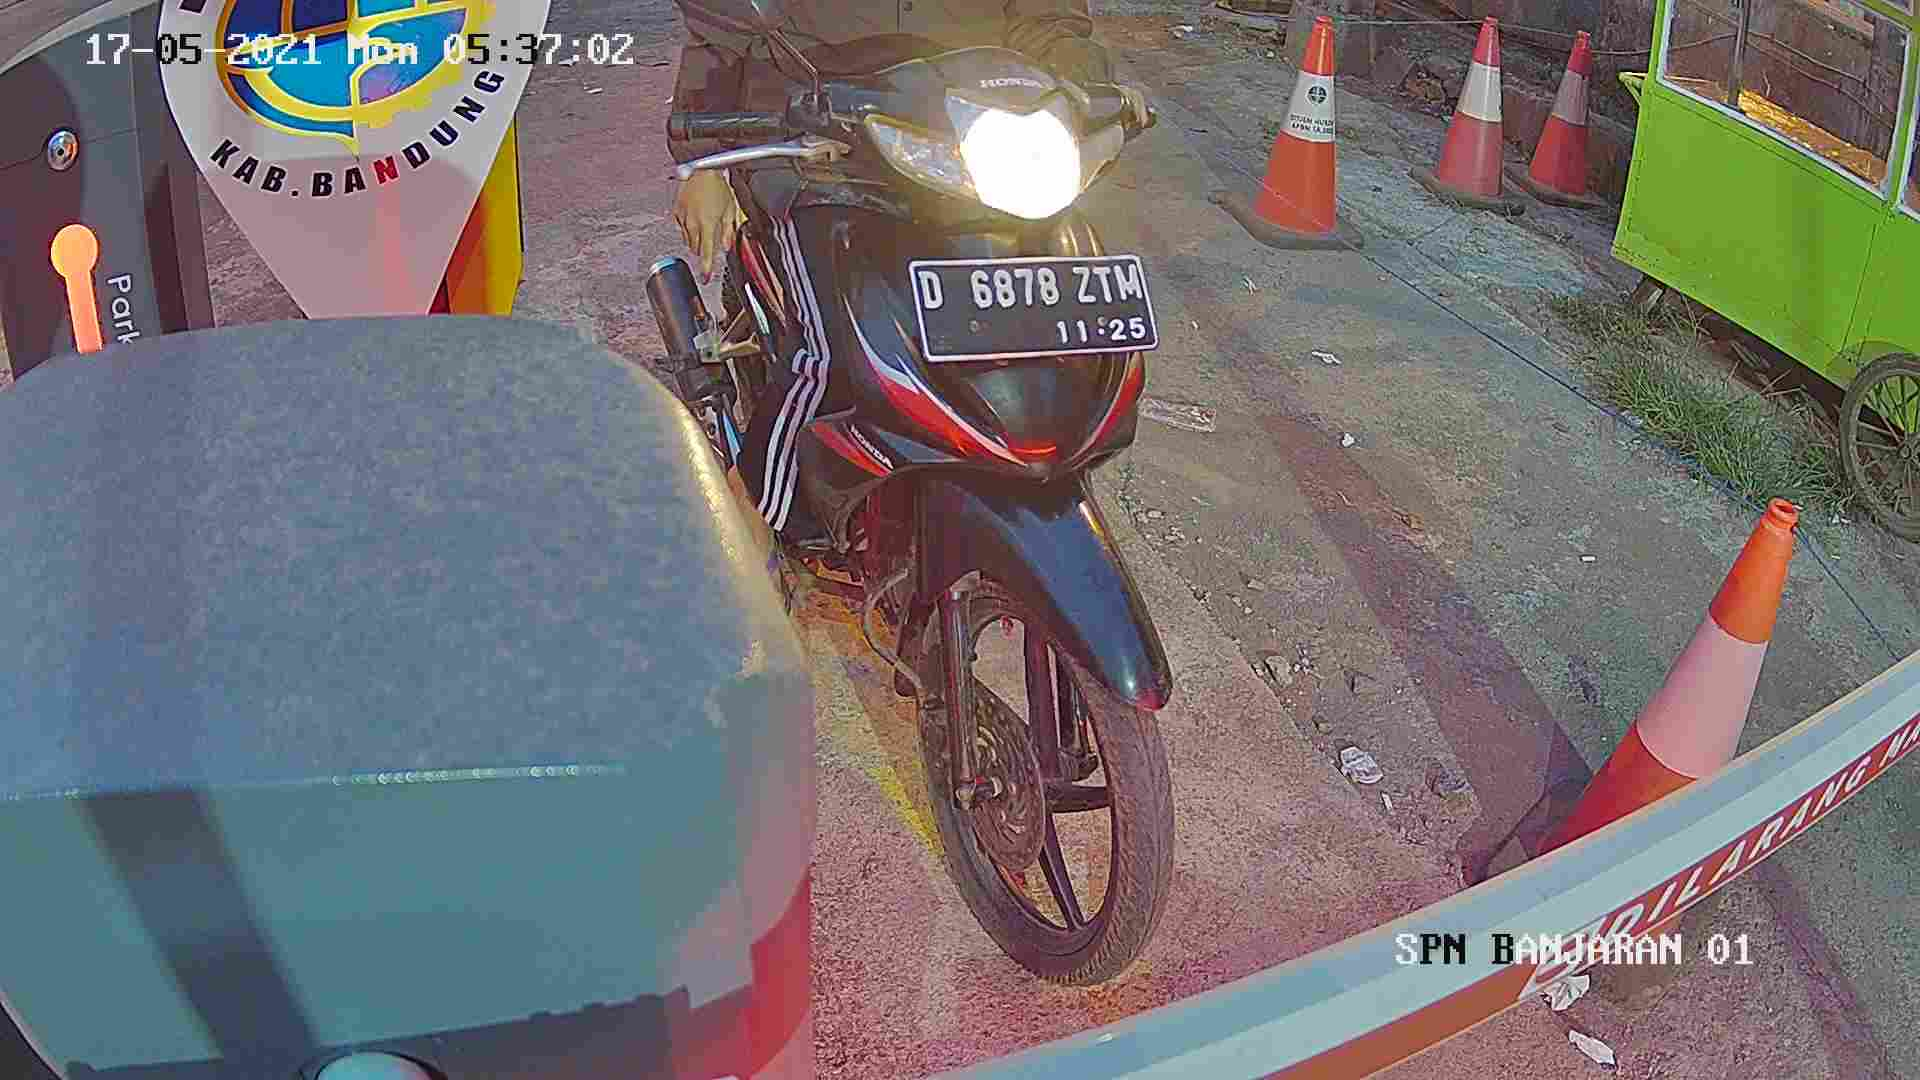motor: (640, 138, 1258, 982)
